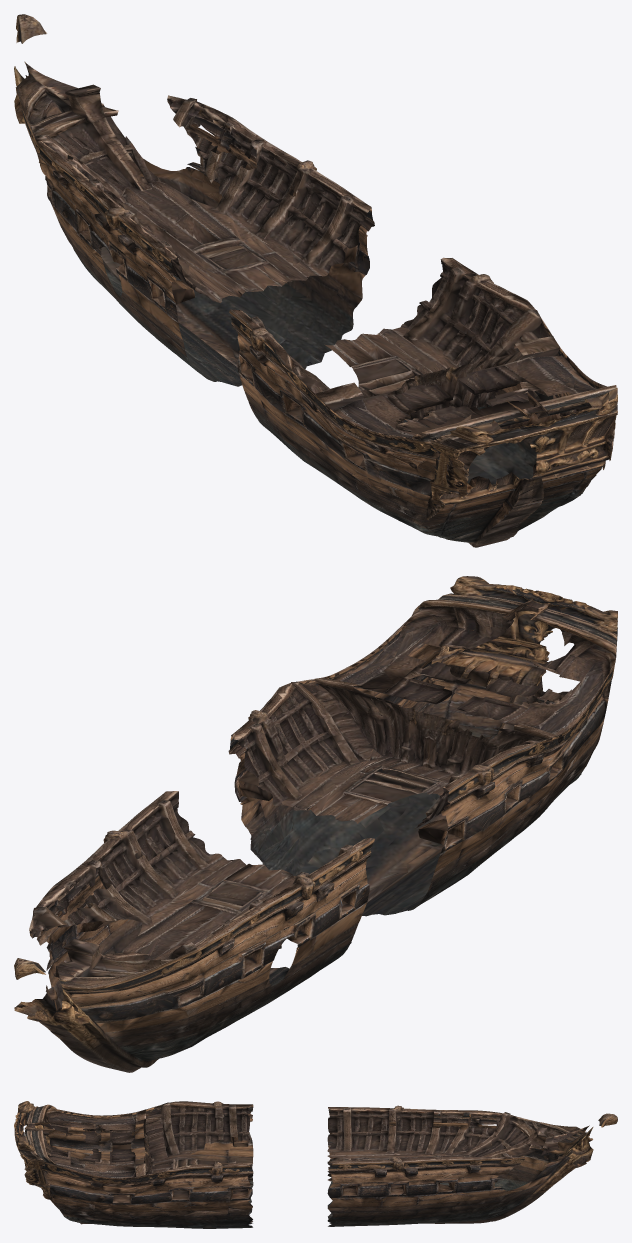
Rendered from galleon-hull.glb.
3 views of the same model, one above another, from view 1: azimuth 30°, elevation 25°; view 2: azimuth 150°, elevation 25°; view 3: azimuth 270°, elevation 25° (orthographic). The views are drawn at different scales.
Visible parts, largest first — view 1: Royal_hull_LOD0; view 2: Royal_hull_LOD0; view 3: Royal_hull_LOD0.
Boxes of the visible parts, x1=… form: Royal_hull_LOD0: x1=14, y1=14, x2=617, y2=547; Royal_hull_LOD0: x1=14, y1=576, x2=617, y2=1072; Royal_hull_LOD0: x1=14, y1=1101, x2=617, y2=1228.
Size of what is drawn, in the model's own units: 42.65 by 31.05 by 159.
1 material, 1 textured.
